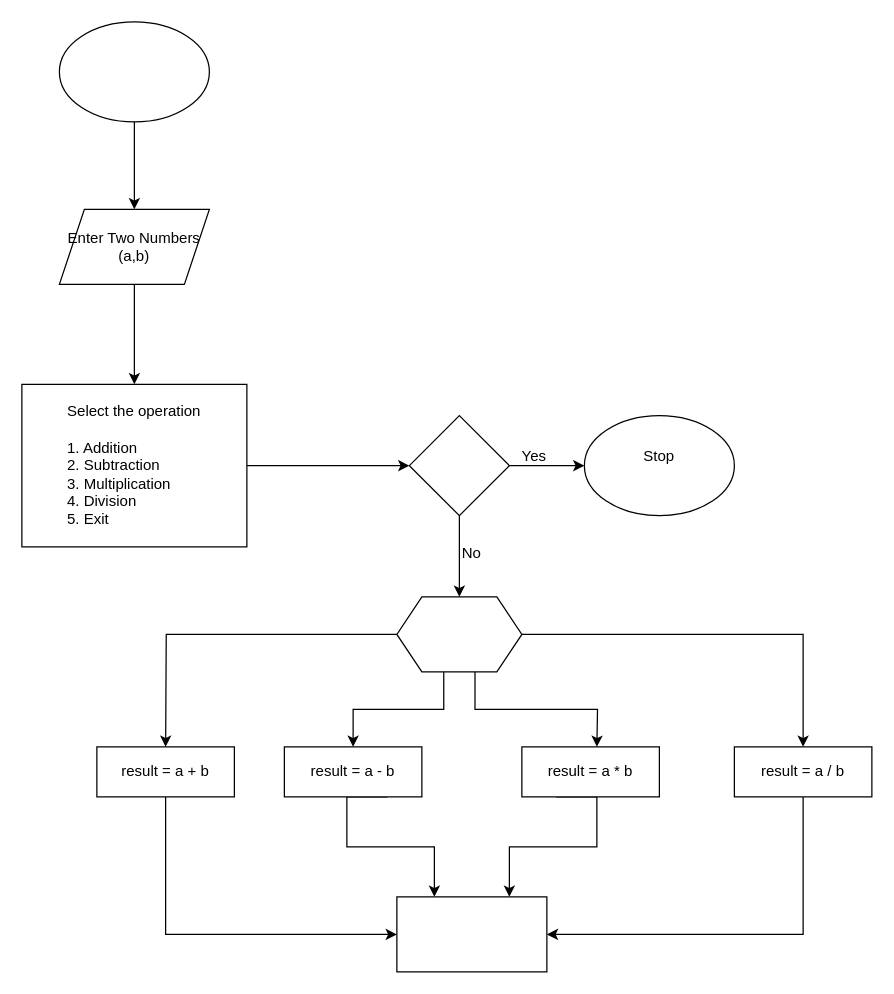
Some shapes in this 894 by 994 pixel diagram are drawn without their labels. Each missing label, with the box of its shape:
if o/p == Exit: (408, 414, 509, 516)
Print Result: (396, 896, 547, 972)
Start: (58, 21, 209, 122)
Switch O/p: (396, 596, 522, 672)
